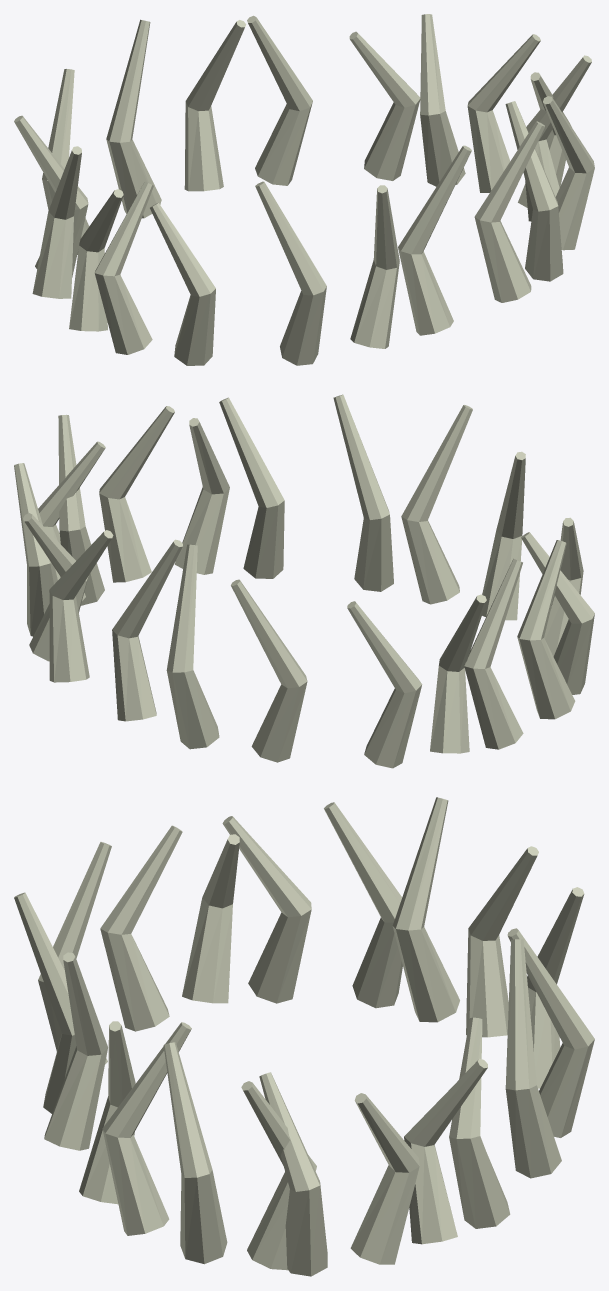
The model's file is alpine-and-arctic-biomes-reindeer-lichen-6cd1c84c__20963.glb.
The picture shows the model from 3 angles, top to bottom: view 1: azimuth 30°, elevation 25°; view 2: azimuth 150°, elevation 25°; view 3: azimuth 270°, elevation 25°; orthographic projection. The views are drawn at different scales.
Visible parts, largest first — view 1: reindeer-lichen; view 2: reindeer-lichen; view 3: reindeer-lichen.
Boxes of the visible parts, left/top/right/bottom form: reindeer-lichen: left=14, top=14, right=594, bottom=365; reindeer-lichen: left=14, top=394, right=594, bottom=768; reindeer-lichen: left=14, top=797, right=594, bottom=1276.
Bounding box in the file's own units: 0.4421 × 0.1464 × 0.3595.
